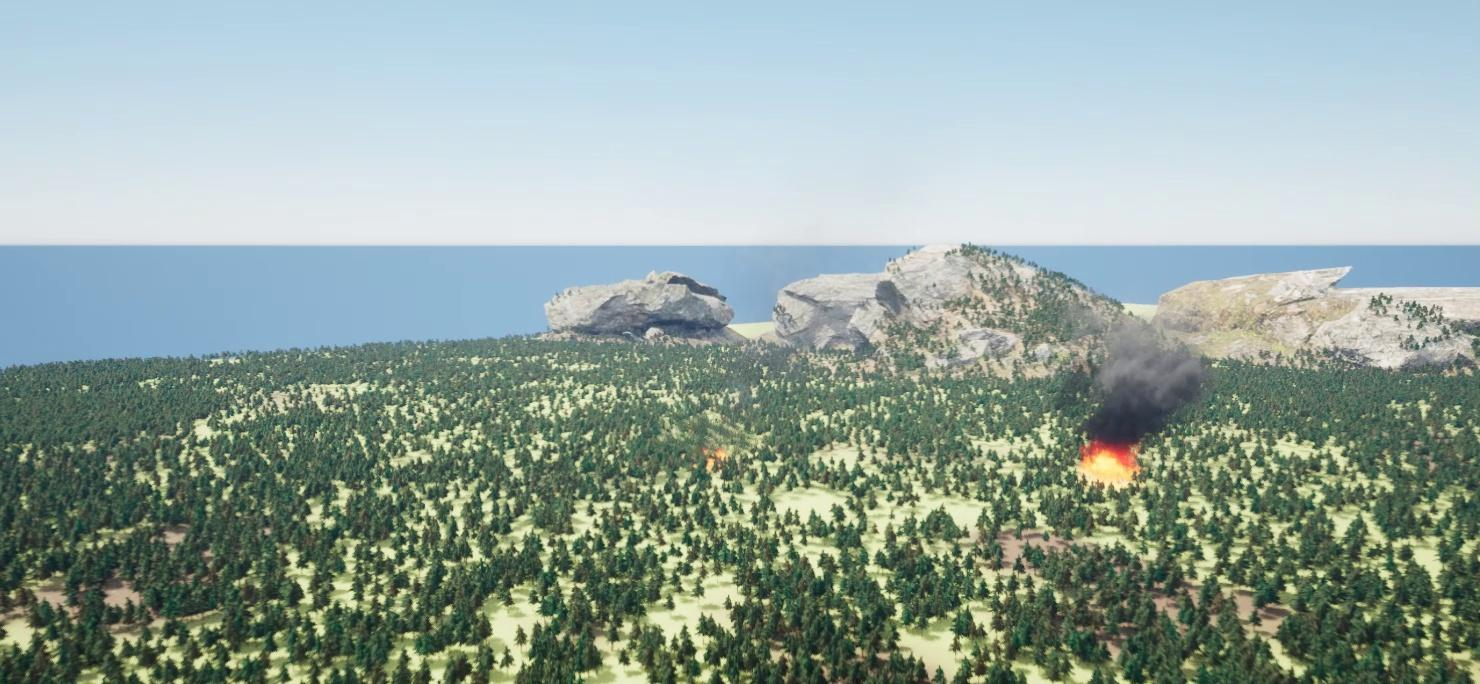fire: (1074, 445, 1137, 480), (694, 444, 727, 474)
smoke: (1087, 324, 1201, 436)
